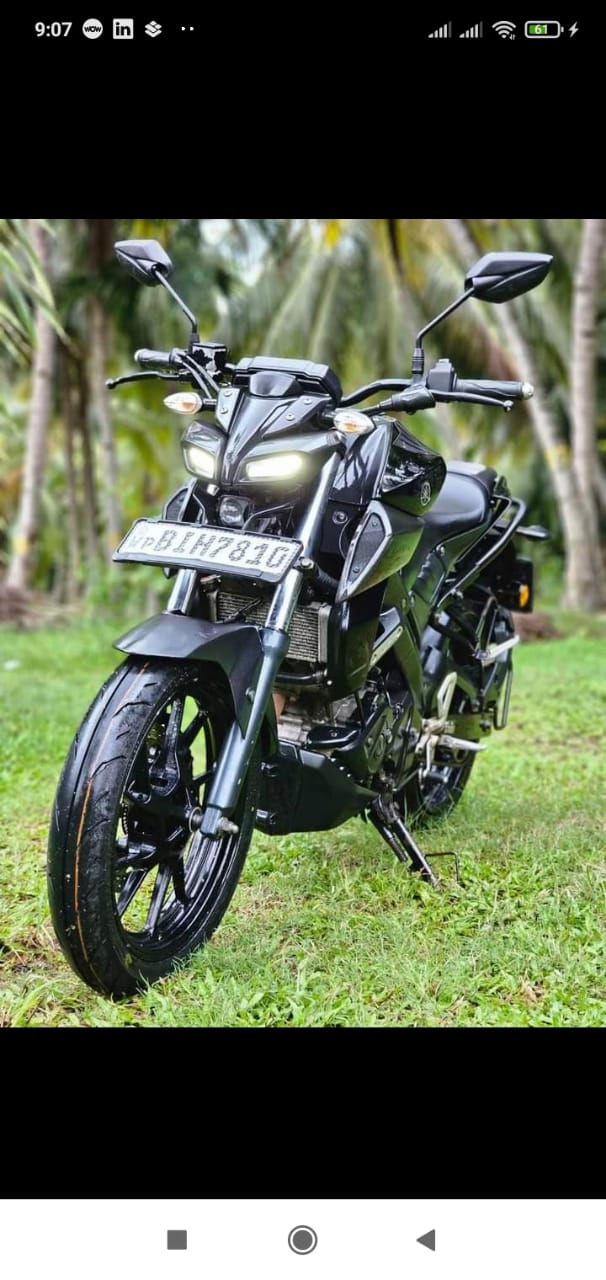number_plate: (108, 506, 303, 580)
